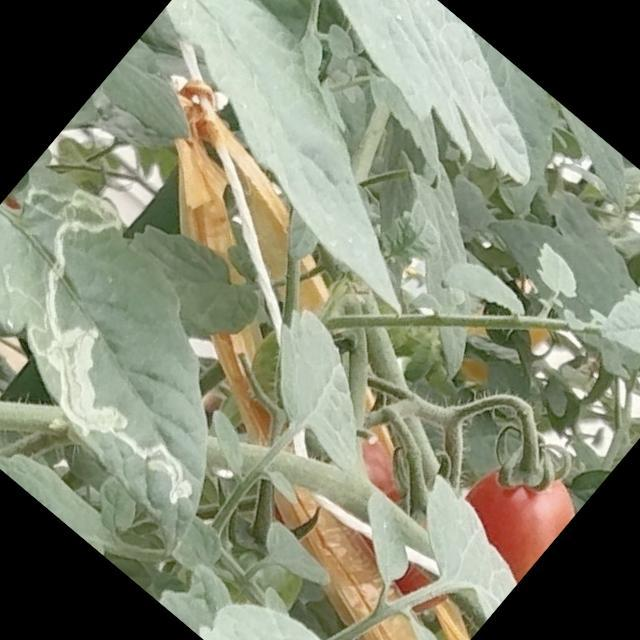Tomato healthy leaf: (107, 0, 508, 323), (280, 0, 580, 201)
Tomato target spot leaf: (0, 147, 323, 561)
